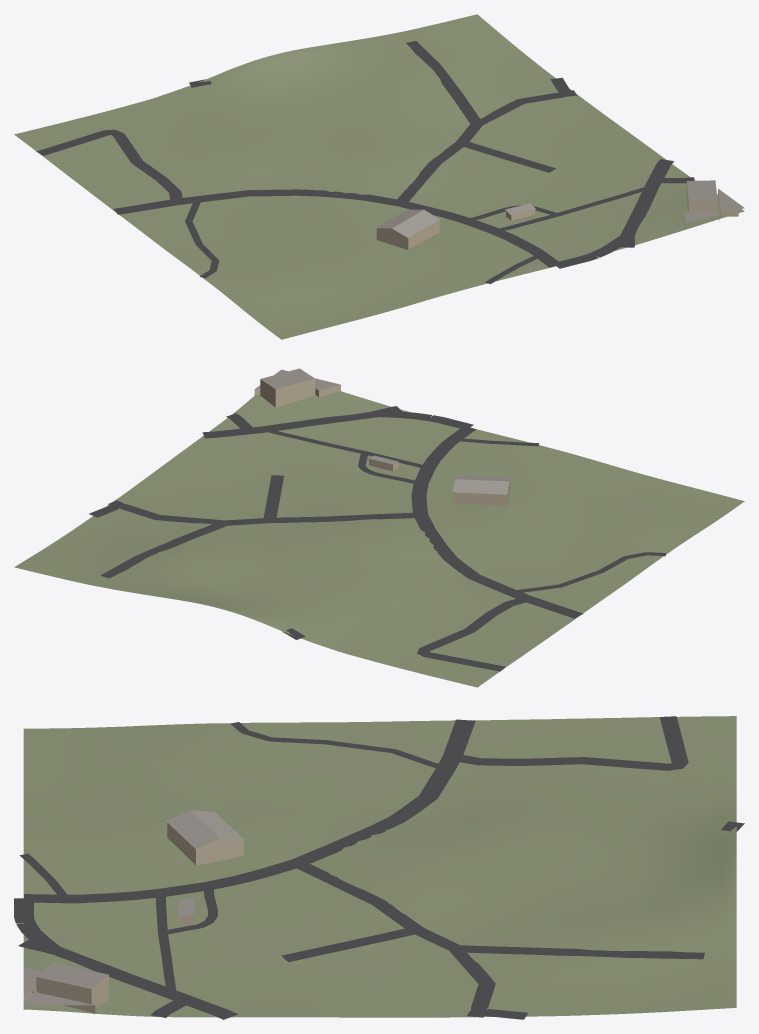
3 views of the same model, one above another, from view 1: azimuth 30°, elevation 25°; view 2: azimuth 150°, elevation 25°; view 3: azimuth 270°, elevation 25° (orthographic). The views are drawn at different scales.
Visible parts, largest first — view 1: ground, road, walls, roofs, sheetRoofs; view 2: ground, road, walls, sheetRoofs, roofs; view 3: ground, road, walls, sheetRoofs, roofs.
Boxes of the visible parts, x1,y1,x2,y2 form: ground: [14, 14, 744, 339]; road: [36, 41, 694, 283]; walls: [376, 182, 738, 249]; roofs: [684, 180, 744, 223]; sheetRoofs: [376, 203, 535, 237]; ground: [14, 391, 744, 687]; road: [89, 406, 665, 671]; walls: [254, 378, 510, 506]; sheetRoofs: [368, 455, 510, 494]; roofs: [255, 368, 340, 390]; ground: [23, 716, 736, 1017]; road: [14, 716, 744, 1019]; walls: [23, 823, 243, 1013]; sheetRoofs: [166, 810, 244, 916]; roofs: [23, 962, 108, 1005].
Size of the model in its own units: 254 by 14.78 by 256.
